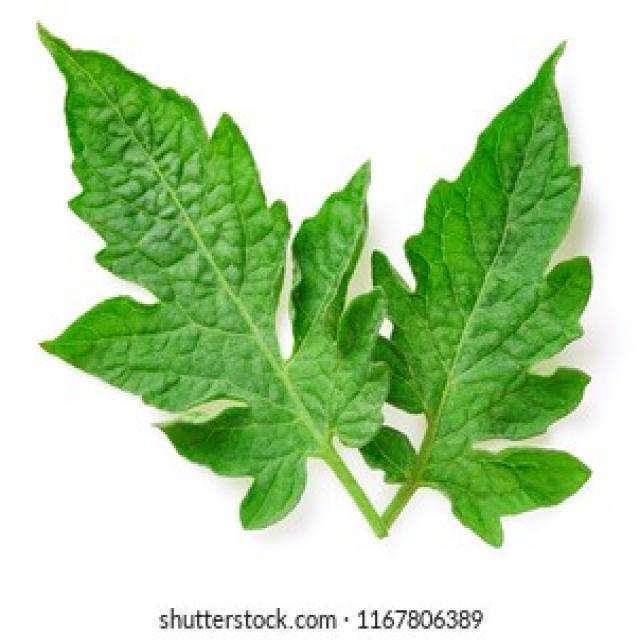Healthy Leaf: (37, 18, 390, 520), (372, 29, 596, 552)
